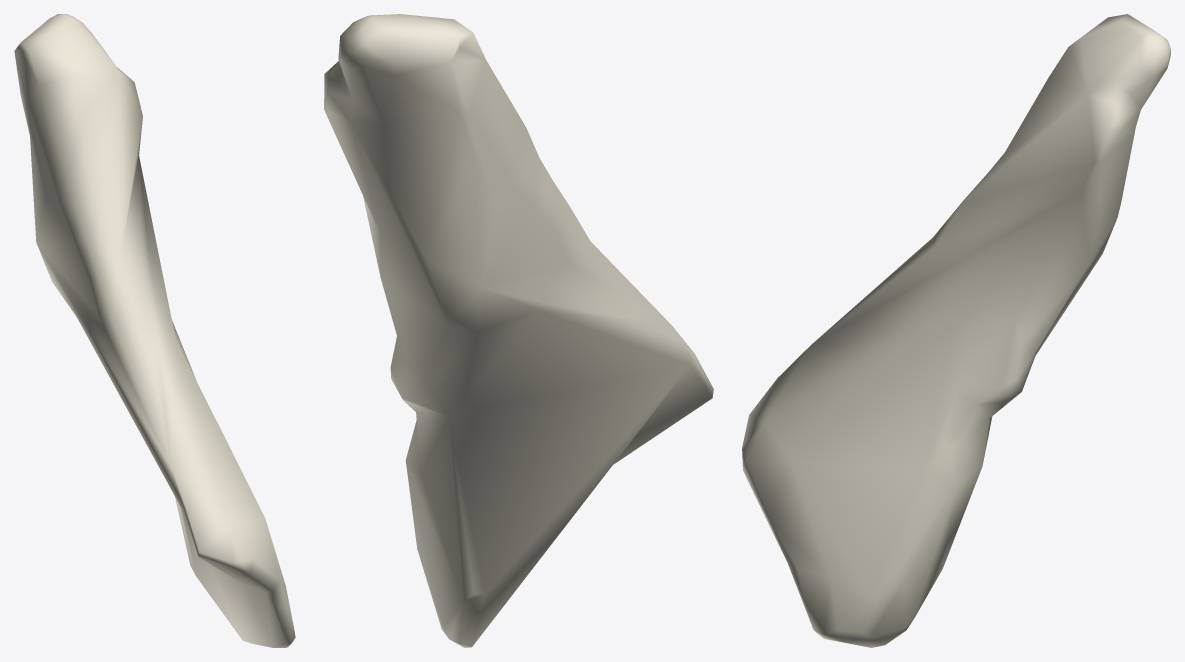
3 renders of one model, left to right at view 1: azimuth 30°, elevation 25°; view 2: azimuth 150°, elevation 25°; view 3: azimuth 270°, elevation 25°, orthographic. The views are drawn at different scales.
Parts seen in each view (by area): view 1: ZA_9809d0aa12e65181; view 2: ZA_9809d0aa12e65181; view 3: ZA_9809d0aa12e65181.
Part boxes in pixels (x1,y1,x2,y2): ZA_9809d0aa12e65181: [14, 14, 295, 647]; ZA_9809d0aa12e65181: [324, 14, 713, 647]; ZA_9809d0aa12e65181: [742, 14, 1170, 647].
Bounding box in the file's own units: 0.0084 × 0.0314 × 0.0209.
